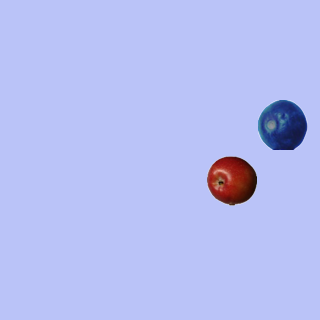Apple Braeburn: (206, 155, 256, 205)
Huckleberry: (257, 99, 307, 149)
